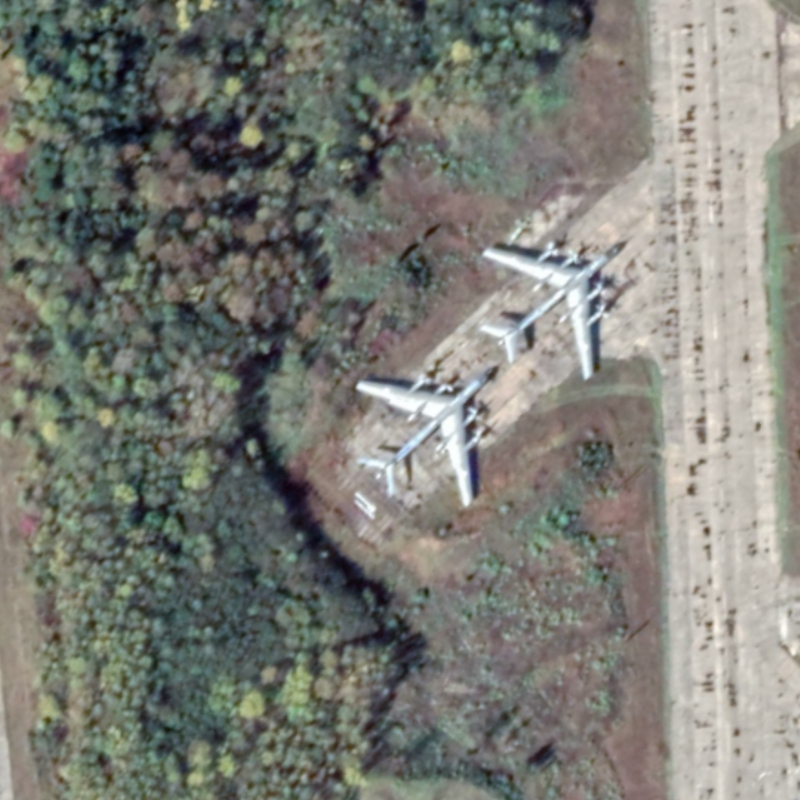A17: (348, 363, 507, 511), (469, 240, 621, 387)
